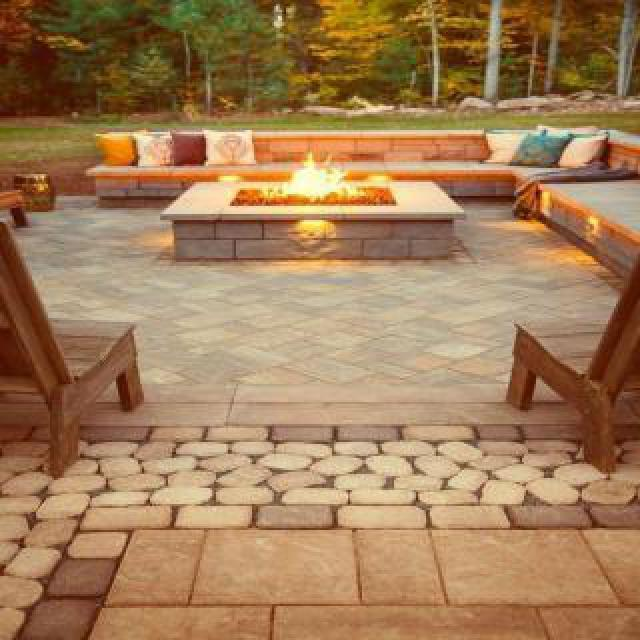Fire: (274, 136, 344, 210)
